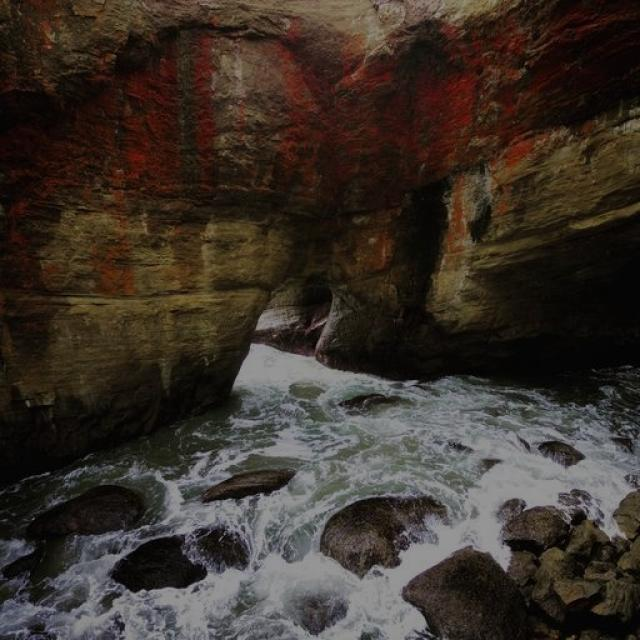watermark: (231, 483, 421, 588)
